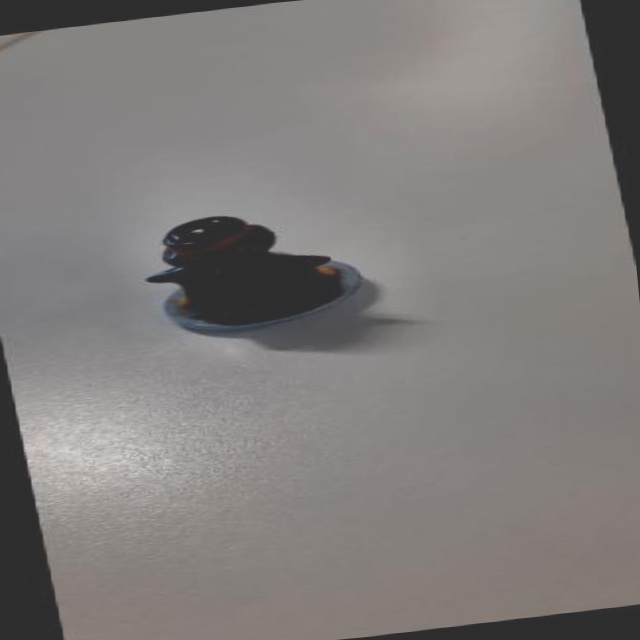Penguin: (132, 195, 375, 348)
